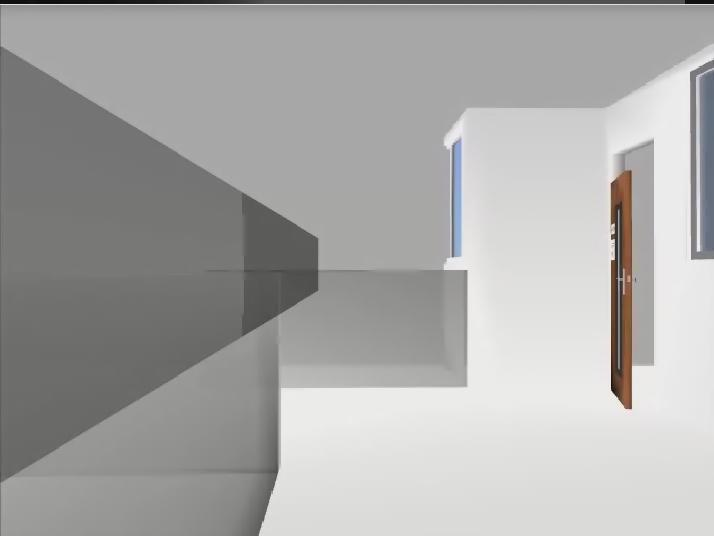door: (611, 171, 632, 410)
